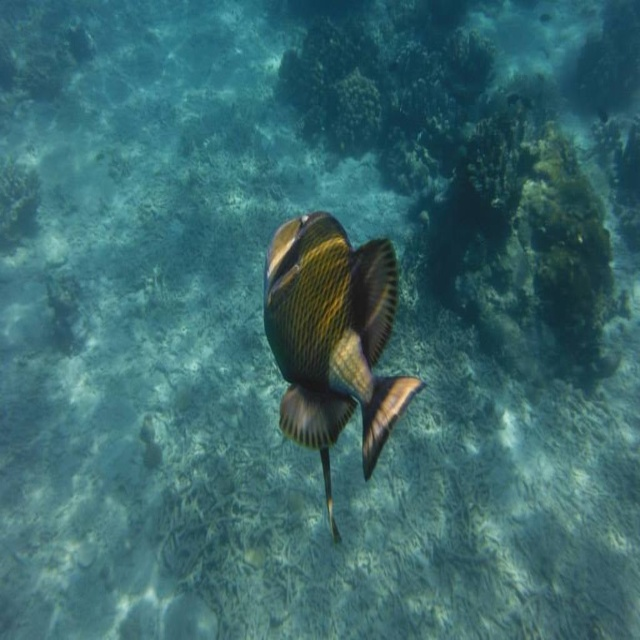Fish: (259, 206, 425, 540)
